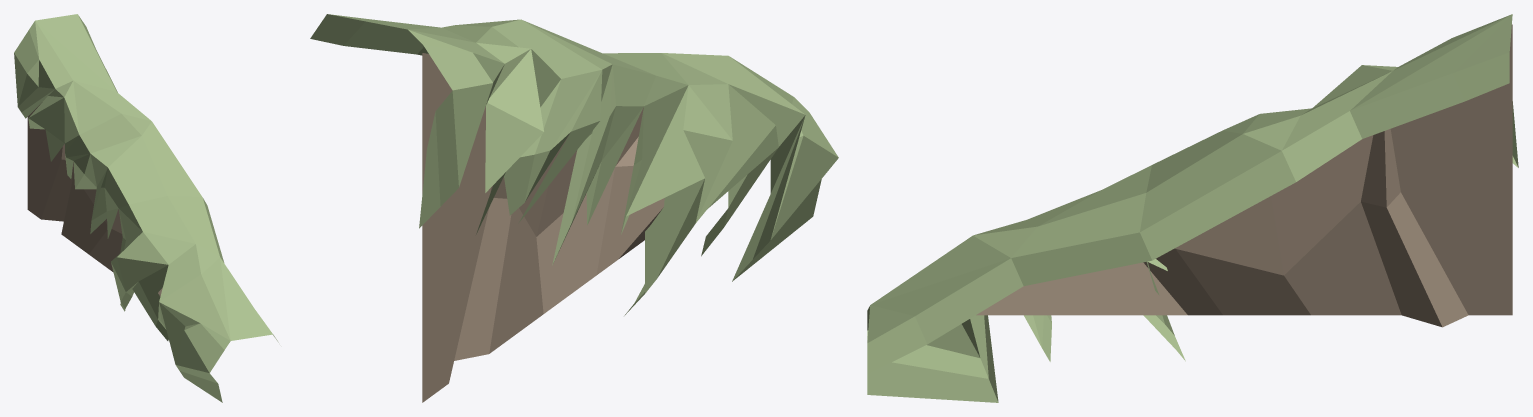
File: ER_Terrain_1x1_GrassSlopeHalf_001_B1.fbx
3 renders of one model, left to right at view 1: azimuth 30°, elevation 25°; view 2: azimuth 150°, elevation 25°; view 3: azimuth 270°, elevation 25°, orthographic. The views are drawn at different scales.
Visible parts, largest first — view 1: ER_Terrain_1x1_GrassSlopeHalf_001_B1; view 2: ER_Terrain_1x1_GrassSlopeHalf_001_B1; view 3: ER_Terrain_1x1_GrassSlopeHalf_001_B1.
Boxes of the visible parts, <box> form: ER_Terrain_1x1_GrassSlopeHalf_001_B1: <box>14,14,278,402</box>; ER_Terrain_1x1_GrassSlopeHalf_001_B1: <box>310,14,838,402</box>; ER_Terrain_1x1_GrassSlopeHalf_001_B1: <box>867,14,1518,402</box>.
Size of the model in its own units: 0.3187 by 0.6786 by 1.01.
